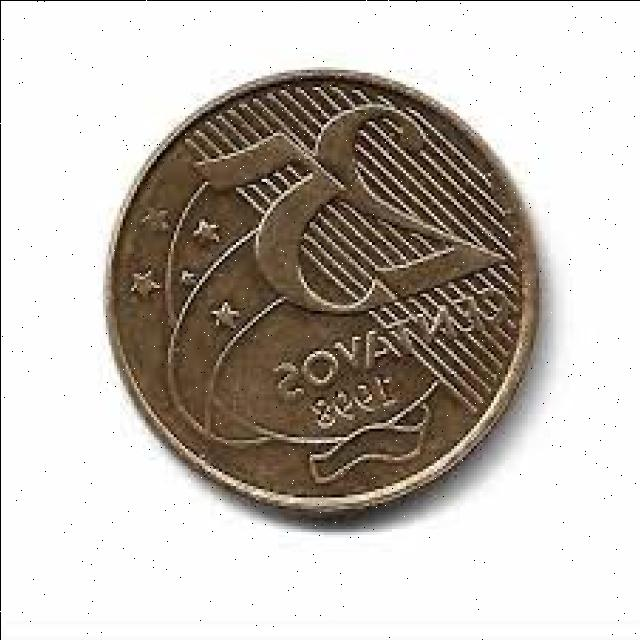25 cent: (114, 70, 532, 502)
